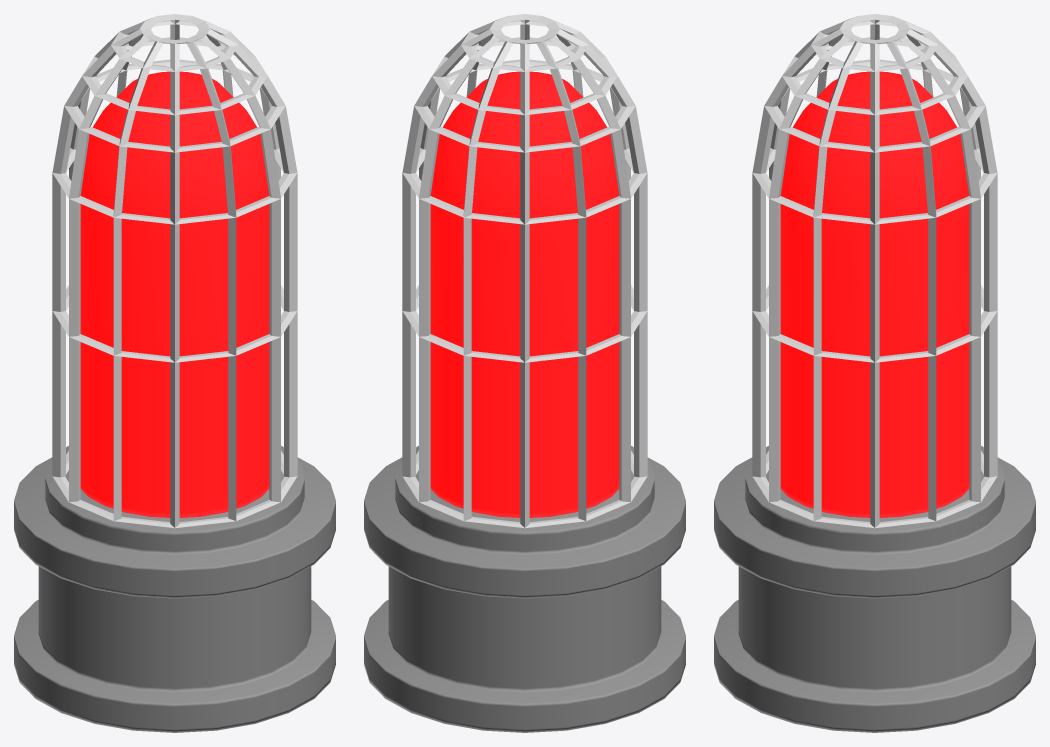
File: Red_WarningLight.fbx
3 renders of one model, left to right at view 1: azimuth 30°, elevation 25°; view 2: azimuth 150°, elevation 25°; view 3: azimuth 270°, elevation 25°, orthographic.
Parts seen in each view (by area): view 1: FloodLight; view 2: FloodLight; view 3: FloodLight.
Part boxes in pixels (left/top/right/bottom): FloodLight: left=14, top=14, right=335, bottom=732; FloodLight: left=364, top=14, right=685, bottom=732; FloodLight: left=714, top=14, right=1035, bottom=732.
Size of the model in its own units: 52 by 113 by 52.
